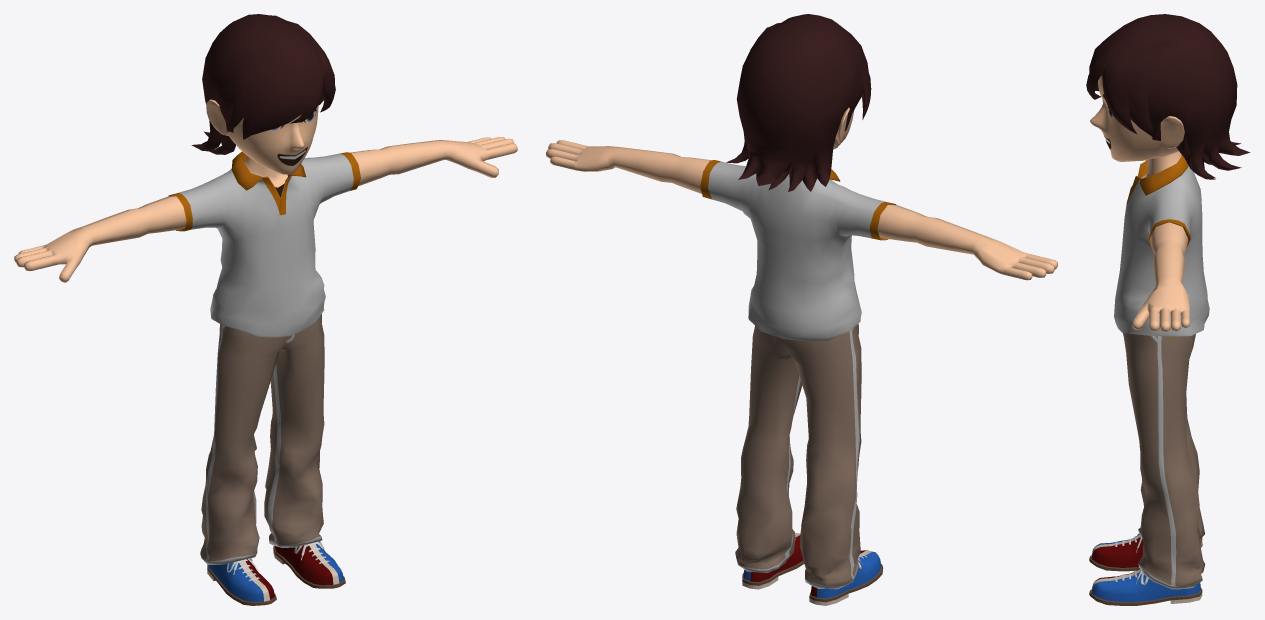
The model's file is male.glb.
3 renders of one model, left to right at view 1: azimuth 30°, elevation 25°; view 2: azimuth 150°, elevation 25°; view 3: azimuth 270°, elevation 25°, orthographic.
Parts seen in each view (by area): view 1: pasted__pasted__polySurface7_Natal.4, pasted__polySurface4_Natal.3, polySurface34.7, base_face_mesh_Natal.2, polySurface27.6; view 2: pasted__pasted__polySurface7_Natal.4, pasted__polySurface4_Natal.3, base_face_mesh_Natal.2, polySurface34.7, polySurface27.6; view 3: base_face_mesh_Natal.2, pasted__pasted__polySurface7_Natal.4, pasted__polySurface4_Natal.3, polySurface34.7, polySurface27.6, pasted__pPlane12_Natal.5.
Boxes of the visible parts, bbox=[...] form: pasted__pasted__polySurface7_Natal.4: bbox=[200, 314, 324, 564]; pasted__polySurface4_Natal.3: bbox=[168, 151, 360, 337]; polySurface34.7: bbox=[14, 99, 517, 282]; base_face_mesh_Natal.2: bbox=[191, 14, 335, 154]; polySurface27.6: bbox=[207, 541, 345, 605]; pasted__pasted__polySurface7_Natal.4: bbox=[735, 323, 861, 589]; pasted__polySurface4_Natal.3: bbox=[700, 160, 896, 340]; base_face_mesh_Natal.2: bbox=[726, 14, 871, 191]; polySurface34.7: bbox=[546, 107, 1057, 280]; polySurface27.6: bbox=[742, 533, 883, 605]; base_face_mesh_Natal.2: bbox=[1086, 14, 1250, 179]; pasted__pasted__polySurface7_Natal.4: bbox=[1123, 333, 1205, 589]; pasted__polySurface4_Natal.3: bbox=[1114, 155, 1209, 336]; polySurface34.7: bbox=[1090, 76, 1189, 331]; polySurface27.6: bbox=[1089, 534, 1202, 605]; pasted__pPlane12_Natal.5: bbox=[1115, 533, 1148, 585].
Bounding box in the file's own units: 1.42 × 1.51 × 0.4015.
Materials: 12 (1 with a texture image).
